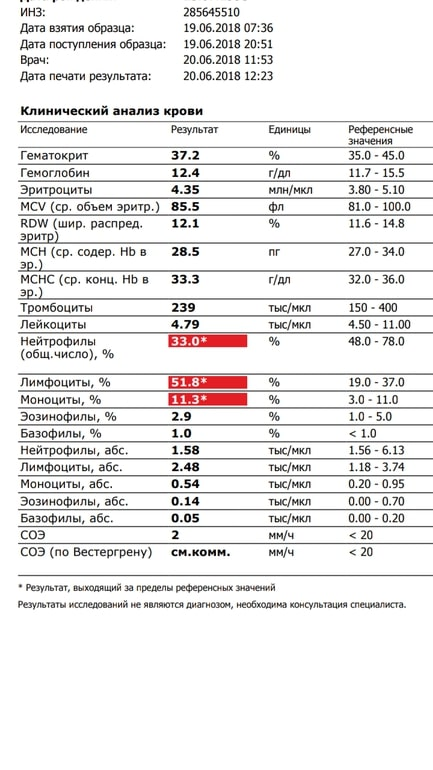column: (19, 121, 160, 575), (348, 121, 413, 575), (170, 121, 219, 575), (268, 121, 311, 575)
